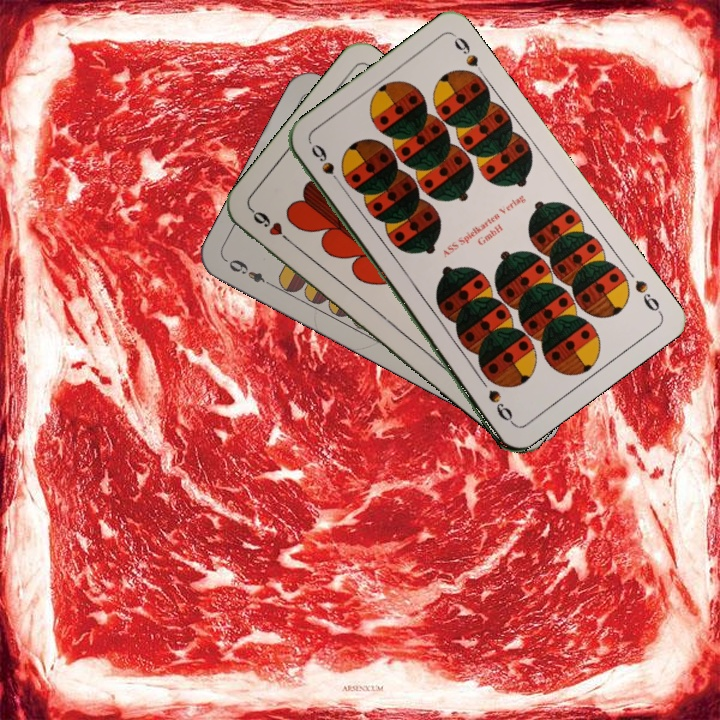E9: (222, 255, 276, 290)
H9: (247, 205, 296, 248)
S9: (307, 141, 347, 192), (630, 276, 664, 317)
